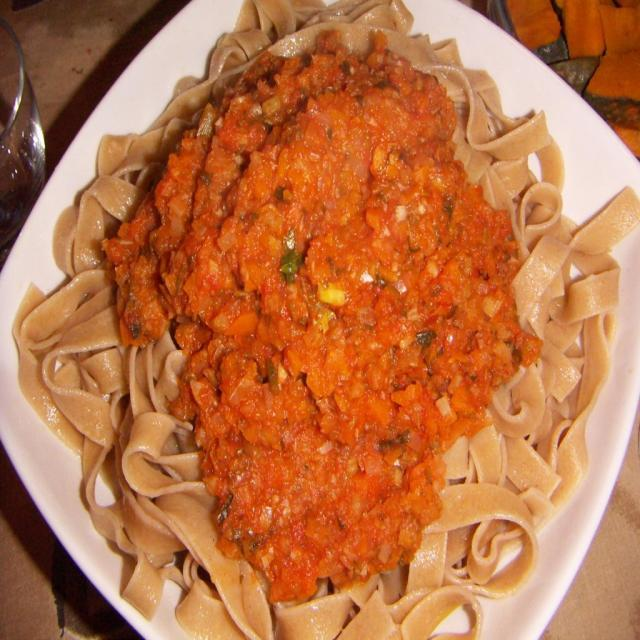Pasta al ragu: (52, 25, 593, 599)
